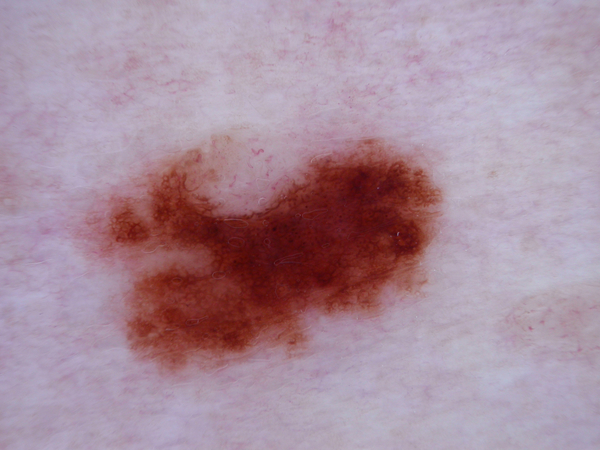Detected Lesion: (82, 131, 453, 375)
